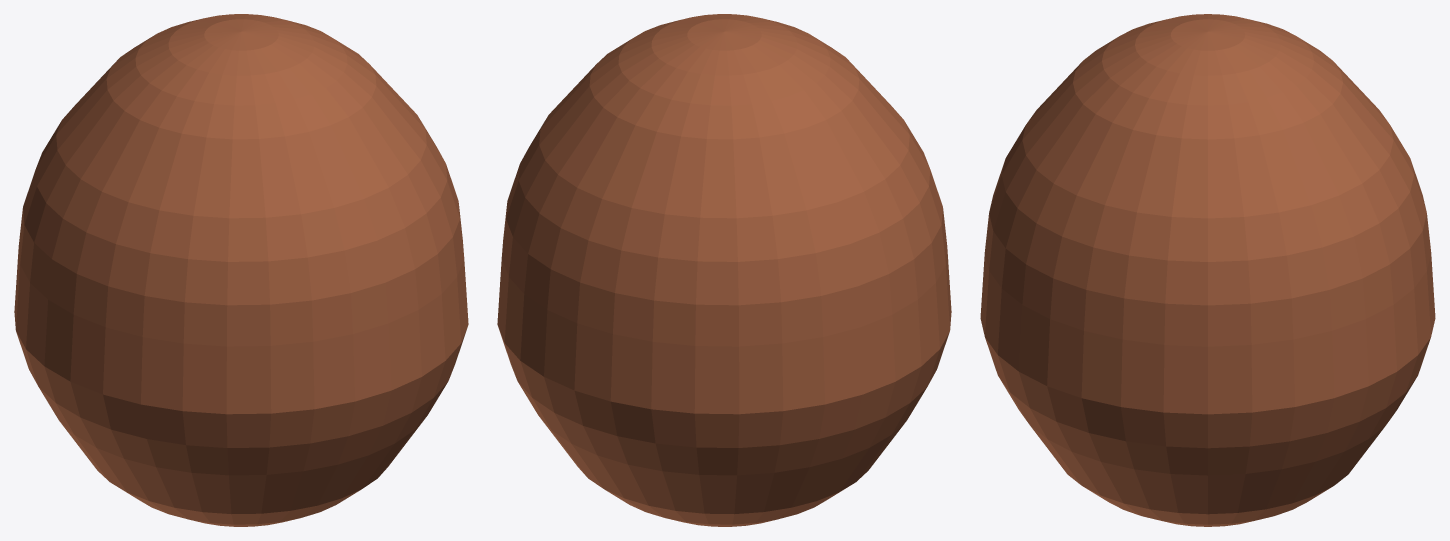
The model's file is batata.fbx.
3 views of the same model, side by side, from view 1: azimuth 30°, elevation 25°; view 2: azimuth 150°, elevation 25°; view 3: azimuth 270°, elevation 25° (orthographic).
Parts seen in each view (by area): view 1: Sphere; view 2: Sphere; view 3: Sphere.
Boxes of the visible parts, x1,y1,x2,y2 form: Sphere: (14, 14, 468, 526); Sphere: (497, 14, 951, 526); Sphere: (980, 14, 1435, 526).
Bounding box in the file's own units: 196 × 226 × 196.
